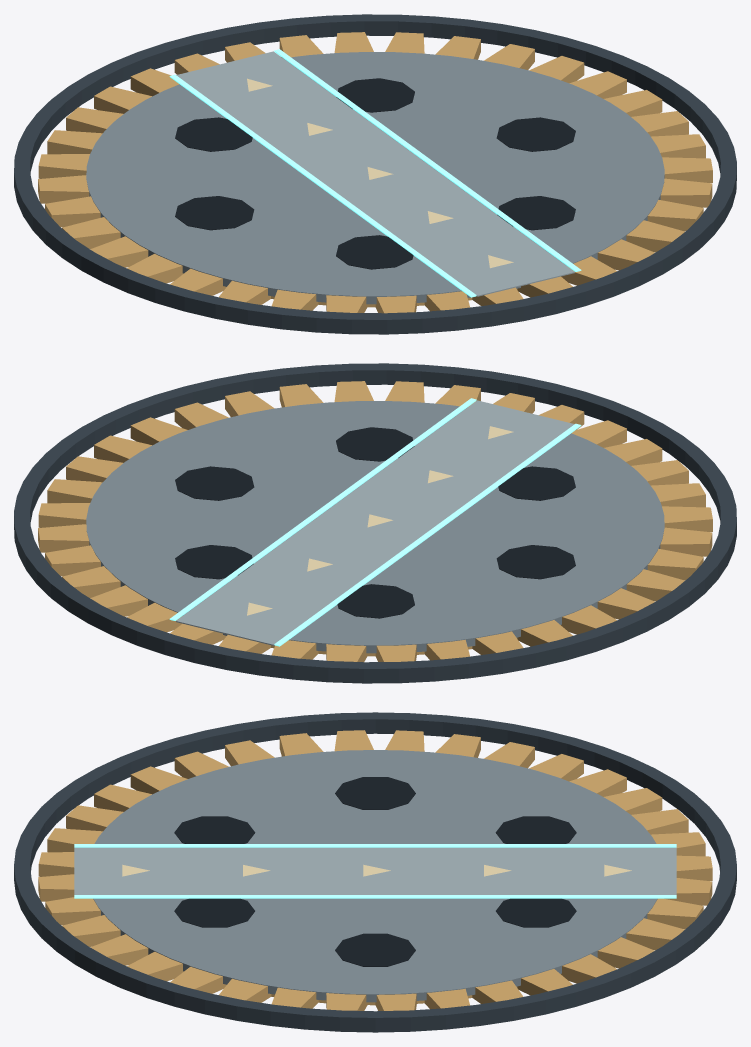
Rendered from nyanisyarud-camera-gear-bridge.glb.
3 renders of one model, top to bottom at view 1: azimuth 30°, elevation 25°; view 2: azimuth 150°, elevation 25°; view 3: azimuth 270°, elevation 25°, orthographic.
Parts seen in each view (by area): view 1: CentralDeck, FixedOuterRim, PlatformGear_Teeth, WalkwayDeck, PlatformGear_black, GearDeckPivot_cyan, GearDeckPivot_cream; view 2: CentralDeck, FixedOuterRim, PlatformGear_Teeth, WalkwayDeck, PlatformGear_black, GearDeckPivot_cyan, GearDeckPivot_cream; view 3: CentralDeck, FixedOuterRim, PlatformGear_Teeth, WalkwayDeck, PlatformGear_black, GearDeckPivot_cyan, GearDeckPivot_cream.
Part boxes in pixels (box(x1,y1,x2,y2)): CentralDeck: box(86, 52, 664, 304); FixedOuterRim: box(14, 14, 736, 334); PlatformGear_Teeth: box(38, 32, 712, 313); WalkwayDeck: box(176, 51, 574, 296); PlatformGear_black: box(175, 78, 575, 269); GearDeckPivot_cyan: box(169, 49, 581, 297); GearDeckPivot_cream: box(247, 78, 513, 268); CentralDeck: box(86, 401, 664, 653); FixedOuterRim: box(14, 363, 736, 683); PlatformGear_Teeth: box(38, 381, 712, 662); WalkwayDeck: box(176, 400, 574, 645); PlatformGear_black: box(175, 427, 575, 618); GearDeckPivot_cyan: box(169, 398, 581, 646); GearDeckPivot_cream: box(247, 426, 513, 615); CentralDeck: box(93, 750, 657, 1002); FixedOuterRim: box(14, 712, 736, 1032); PlatformGear_Teeth: box(38, 730, 712, 1010); WalkwayDeck: box(74, 847, 676, 894); PlatformGear_black: box(174, 777, 576, 966); GearDeckPivot_cyan: box(74, 844, 676, 898); GearDeckPivot_cream: box(122, 864, 631, 876).
Bounding box in the file's own units: 18 × 0.97 × 18.
